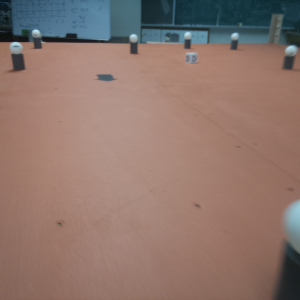corner: (271, 14, 282, 44)
obstacle: (281, 201, 300, 283), (11, 42, 25, 73), (282, 44, 297, 71), (129, 33, 138, 54), (32, 29, 41, 48), (183, 32, 193, 47), (184, 53, 197, 63), (231, 32, 237, 49)
side: (94, 71, 117, 85)
